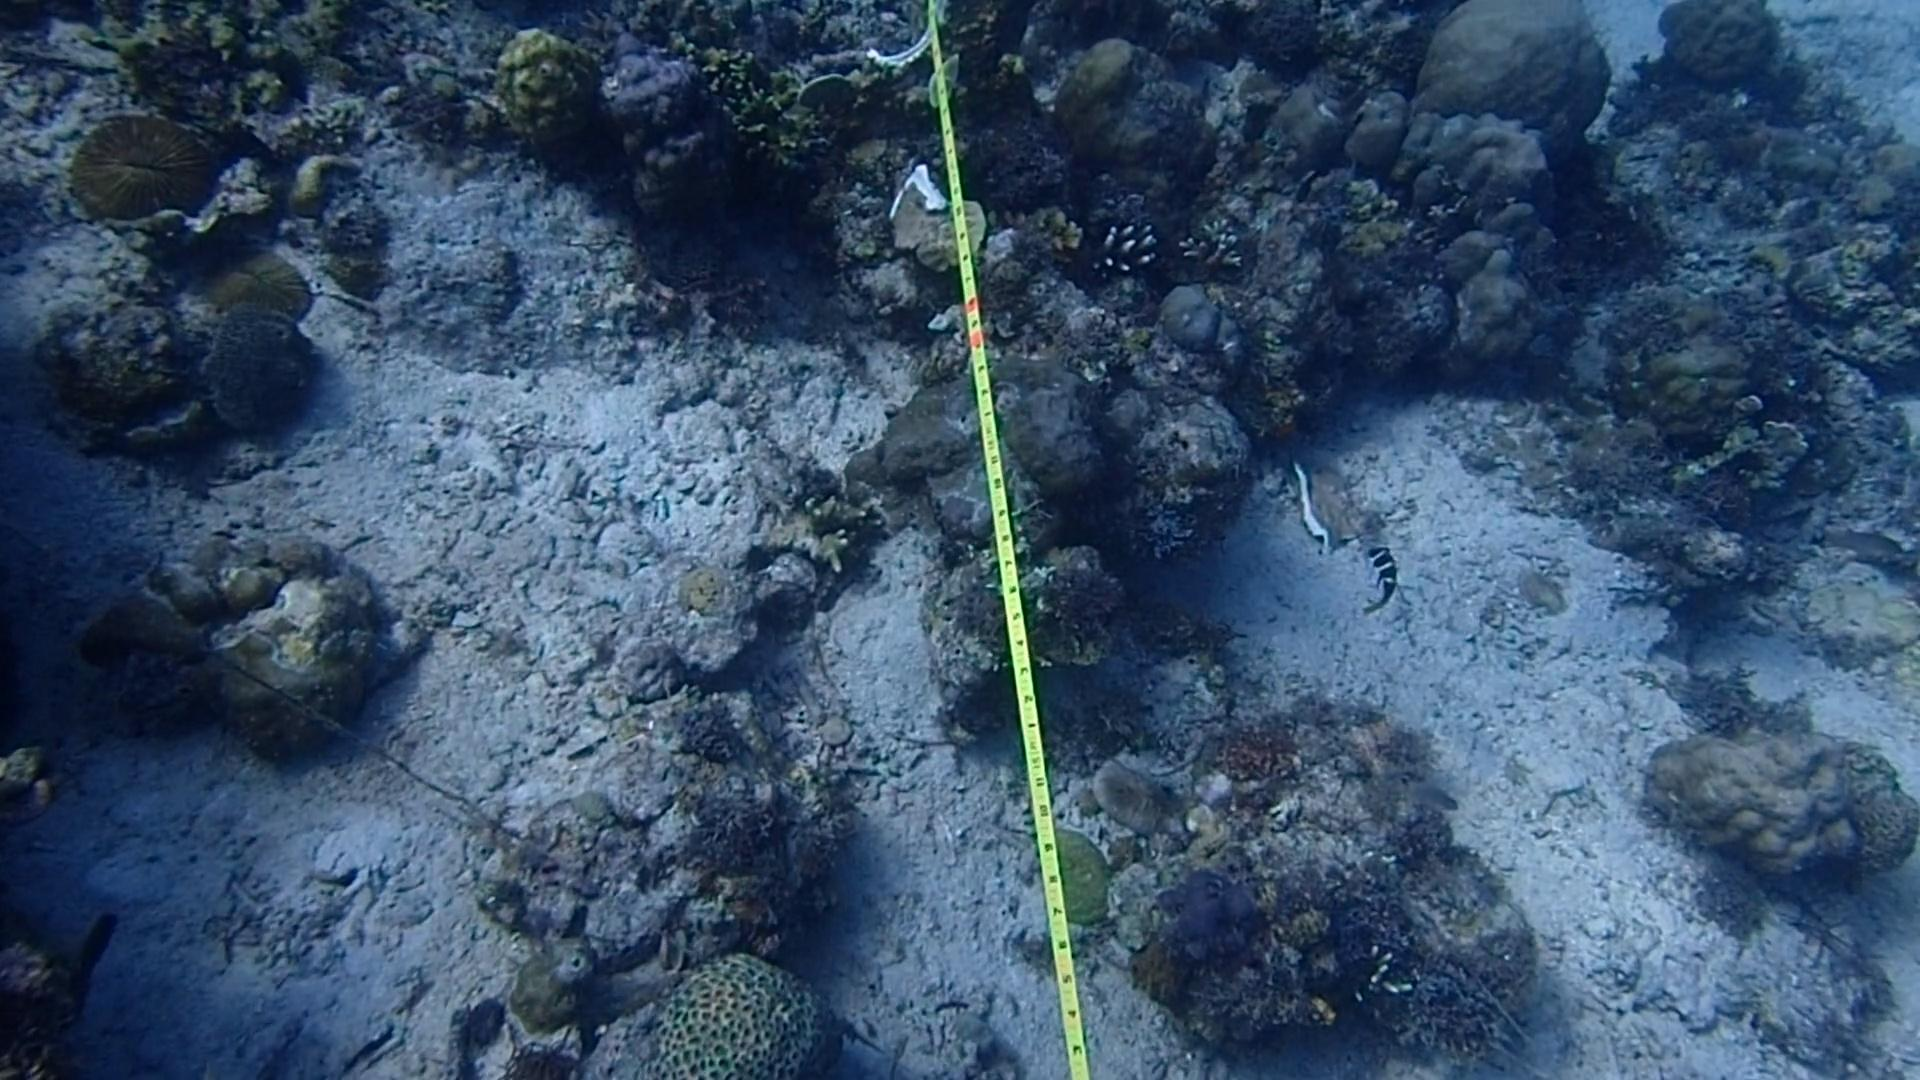Striped Fish: (1350, 527, 1404, 616)
